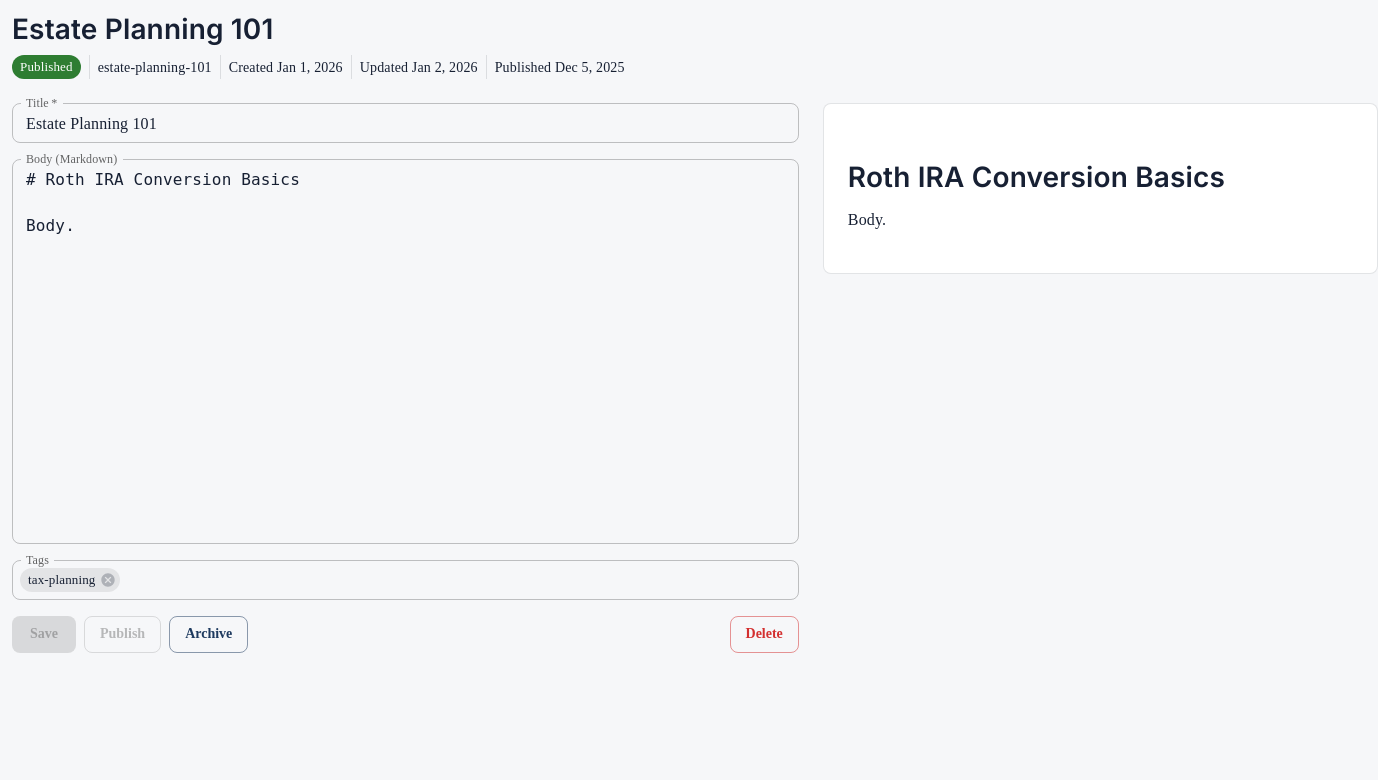
Test: ContentEditorScreen mutation feedback (global snackbar) › a failed Archive surfaces the envelope message as an alert and shows no success notice
The image size is (1378, 780).
Click the button "Archive".
click(209, 634)  # box [169,616,248,652]
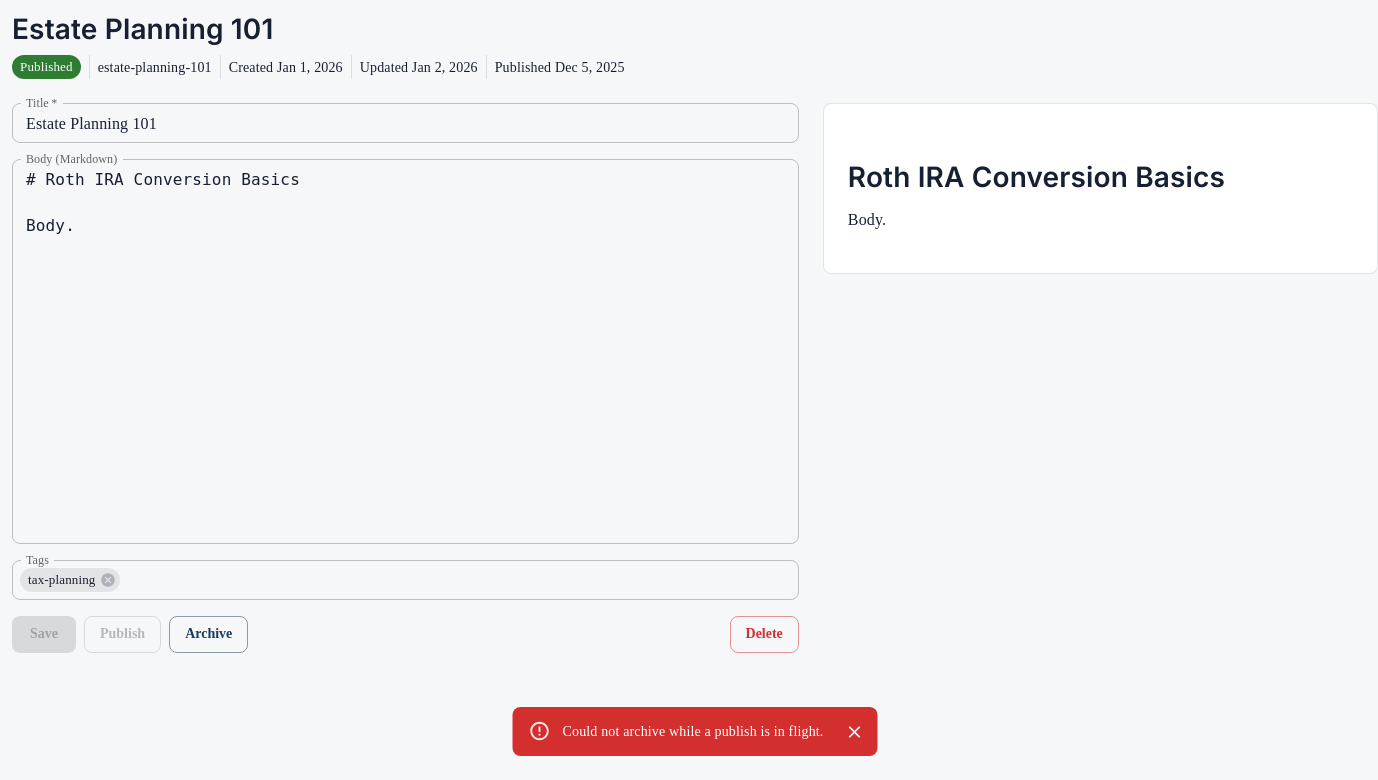
Expected: the message reads "Could not archive while a publish is in flight.", [562,724,824,739]
